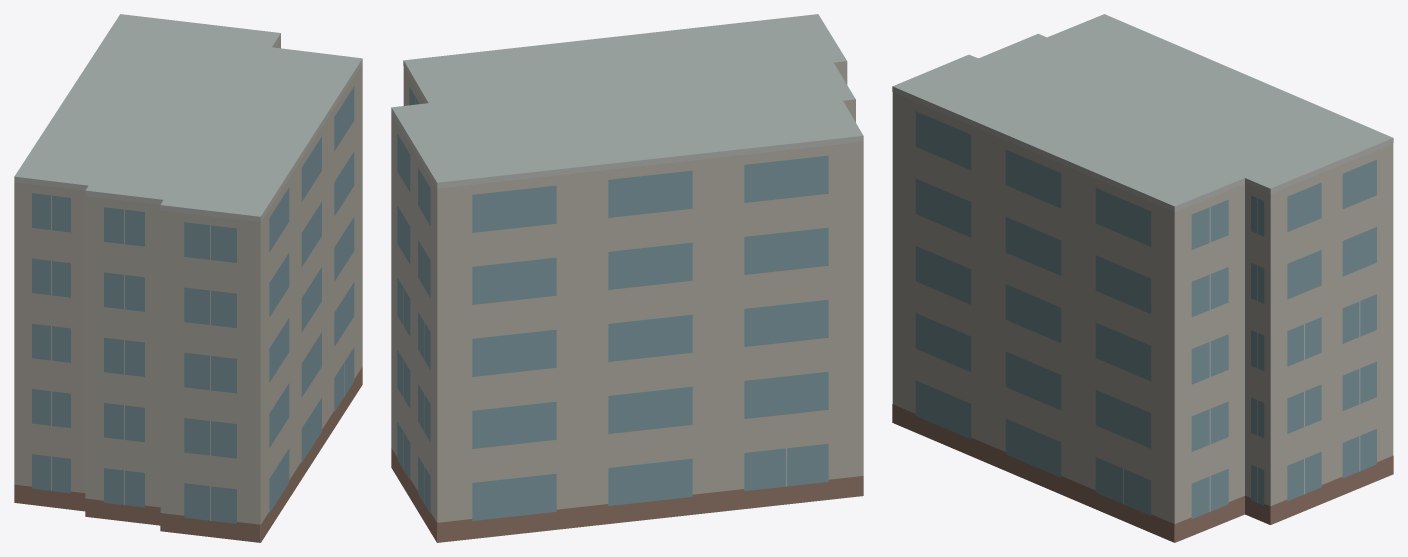
Rendered from survey-upis-32583772.glb.
3 views of the same model, side by side, from view 1: azimuth 30°, elevation 25°; view 2: azimuth 150°, elevation 25°; view 3: azimuth 270°, elevation 25° (orthographic). The views are drawn at different scales.
Visible parts, largest first — view 1: survey-upis-32583772.tmp; view 2: survey-upis-32583772.tmp; view 3: survey-upis-32583772.tmp.
Boxes of the visible parts, x1,y1,x2,y2 form: survey-upis-32583772.tmp: [14, 14, 362, 542]; survey-upis-32583772.tmp: [391, 14, 863, 542]; survey-upis-32583772.tmp: [892, 14, 1393, 542].
Bounding box in the file's own units: 18.17 × 14.8 × 19.98.
